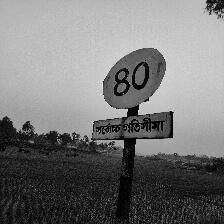Speed-limit: (93, 47, 173, 140)
